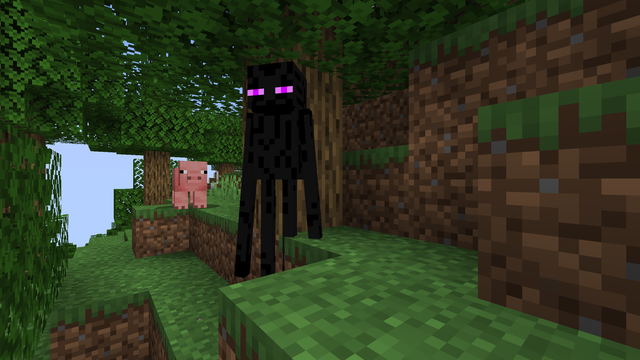cochons: (163, 166, 215, 209)
endermens: (242, 46, 316, 273)
